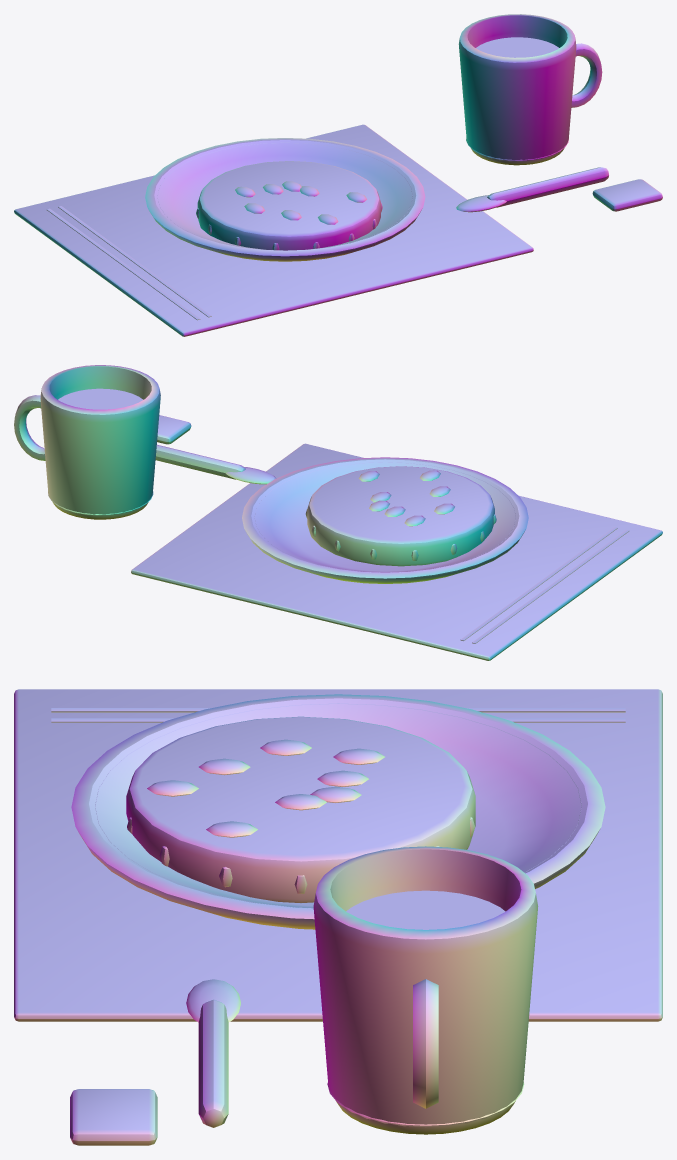
File: env_dress_kitchen.glb
The picture shows the model from 3 angles, top to bottom: view 1: azimuth 30°, elevation 25°; view 2: azimuth 150°, elevation 25°; view 3: azimuth 270°, elevation 25°; orthographic projection. The views are drawn at different scales.
Visible parts, largest first — view 1: env_dress_kitchen_mesh; view 2: env_dress_kitchen_mesh; view 3: env_dress_kitchen_mesh.
Part boxes in pixels (x1,y1,x2,y2): env_dress_kitchen_mesh: (14, 14, 662, 336); env_dress_kitchen_mesh: (14, 365, 662, 660); env_dress_kitchen_mesh: (14, 689, 662, 1145).
Size of the model in its own units: 0.9279 by 0.193 by 0.52.
